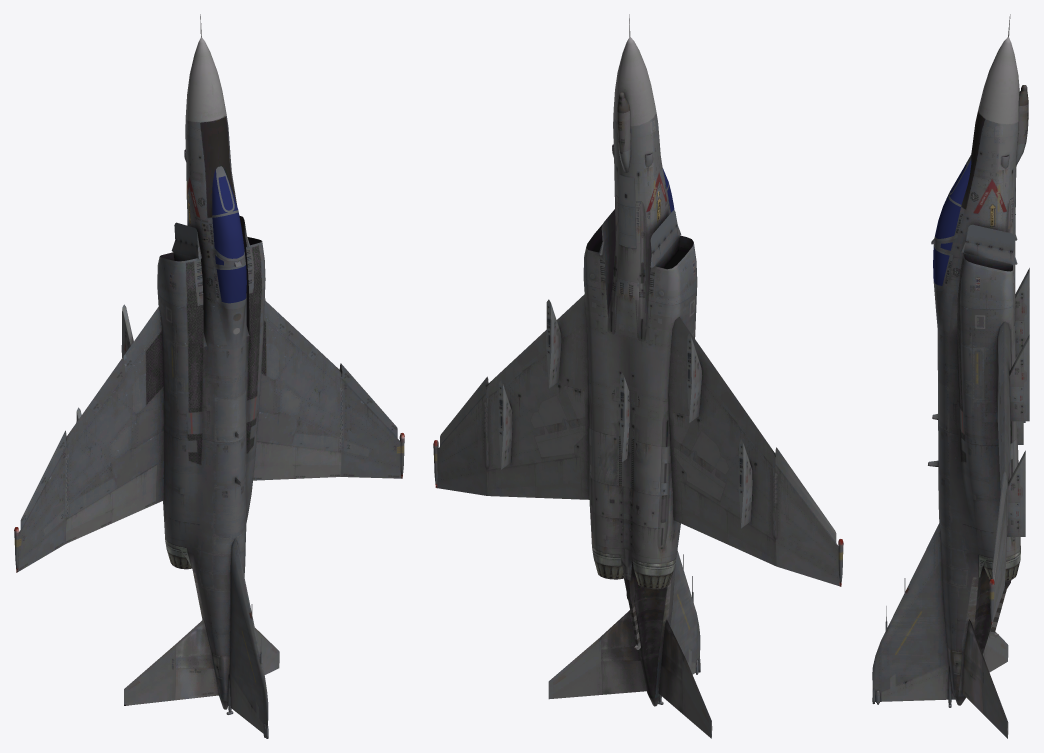
File: F-4E_Phantom_II.obj
3 views of the same model, side by side, from view 1: azimuth 30°, elevation 25°; view 2: azimuth 150°, elevation 25°; view 3: azimuth 270°, elevation 25° (orthographic). The views are drawn at different scales.
Visible parts, largest first — view 1: LOD0, ElevatorL01, FlapL01, FlapR01, AileronR01, AileronL01, Glass_Canopy01, Glass_Canopy02, RudderL01, Glass, VoletR01, VoletL01; view 2: LOD0, ElevatorR01, ElevatorL01, FlapR01, FlapL01, AileronR01, AileronL01, BrakeR01, BrakeL01, VoletL01, VoletR01; view 3: LOD0, ElevatorR01, RudderL01, Glass_Canopy01, ElevatorL01, Glass, VoletR01, Glass_Canopy02, Hook, Canopy02.
Part boxes in pixels (bbox=[...]): LOD0: bbox=[14, 14, 404, 738]; ElevatorL01: bbox=[124, 619, 219, 705]; FlapL01: bbox=[112, 464, 157, 523]; FlapR01: bbox=[253, 441, 295, 480]; AileronR01: bbox=[295, 446, 341, 478]; AileronL01: bbox=[65, 491, 112, 543]; Glass_Canopy01: bbox=[212, 212, 244, 258]; Glass_Canopy02: bbox=[216, 265, 246, 303]; RudderL01: bbox=[230, 673, 263, 733]; Glass: bbox=[212, 169, 245, 265]; VoletR01: bbox=[339, 363, 397, 438]; VoletL01: bbox=[20, 430, 66, 530]; LOD0: bbox=[433, 14, 843, 706]; ElevatorR01: bbox=[548, 610, 646, 699]; ElevatorL01: bbox=[658, 620, 712, 738]; FlapR01: bbox=[535, 457, 581, 499]; FlapL01: bbox=[680, 482, 727, 544]; AileronR01: bbox=[486, 463, 535, 497]; AileronL01: bbox=[727, 511, 776, 565]; BrakeR01: bbox=[534, 425, 585, 458]; BrakeL01: bbox=[674, 447, 725, 501]; VoletL01: bbox=[775, 447, 836, 542]; VoletR01: bbox=[440, 376, 488, 446]; LOD0: bbox=[872, 14, 1029, 707]; ElevatorR01: bbox=[962, 619, 1008, 738]; RudderL01: bbox=[880, 664, 947, 701]; Glass_Canopy01: bbox=[935, 194, 960, 238]; ElevatorL01: bbox=[983, 628, 1008, 672]; Glass: bbox=[940, 160, 971, 250]; VoletR01: bbox=[992, 471, 1006, 579]; Glass_Canopy02: bbox=[933, 246, 949, 285]; Hook: bbox=[989, 580, 1011, 638]; Canopy02: bbox=[933, 244, 953, 291].
Size of the model in its own units: 12.68 by 21.07 by 4.33.
Materials: 4 (4 with a texture image).
